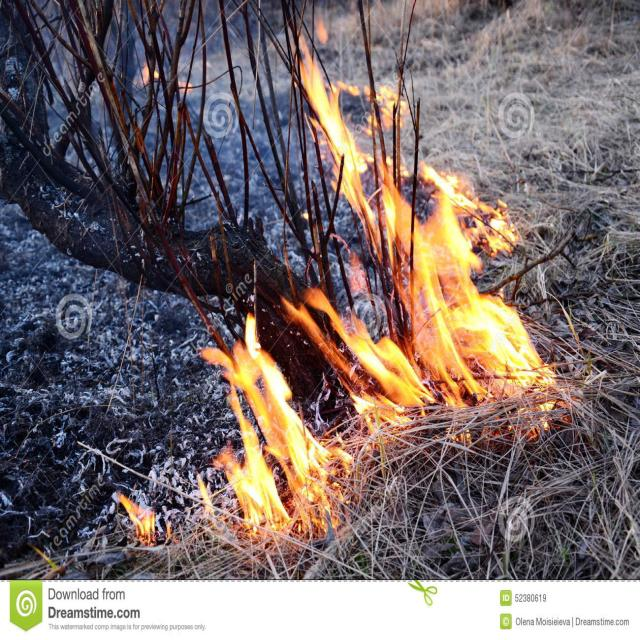Fire: (122, 73, 548, 553)
